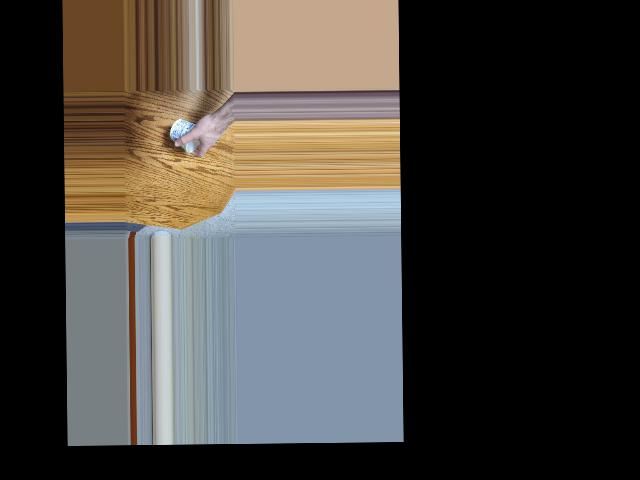cotage: (173, 114, 205, 153)
